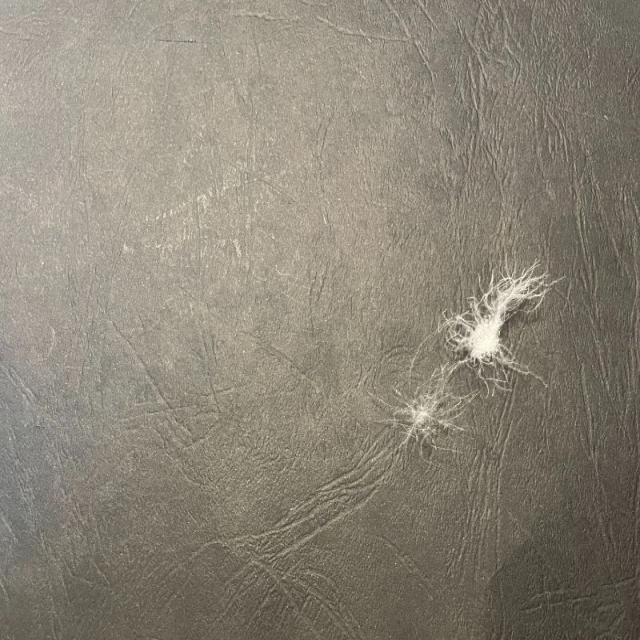feather: (446, 268, 544, 376), (377, 378, 479, 454)
